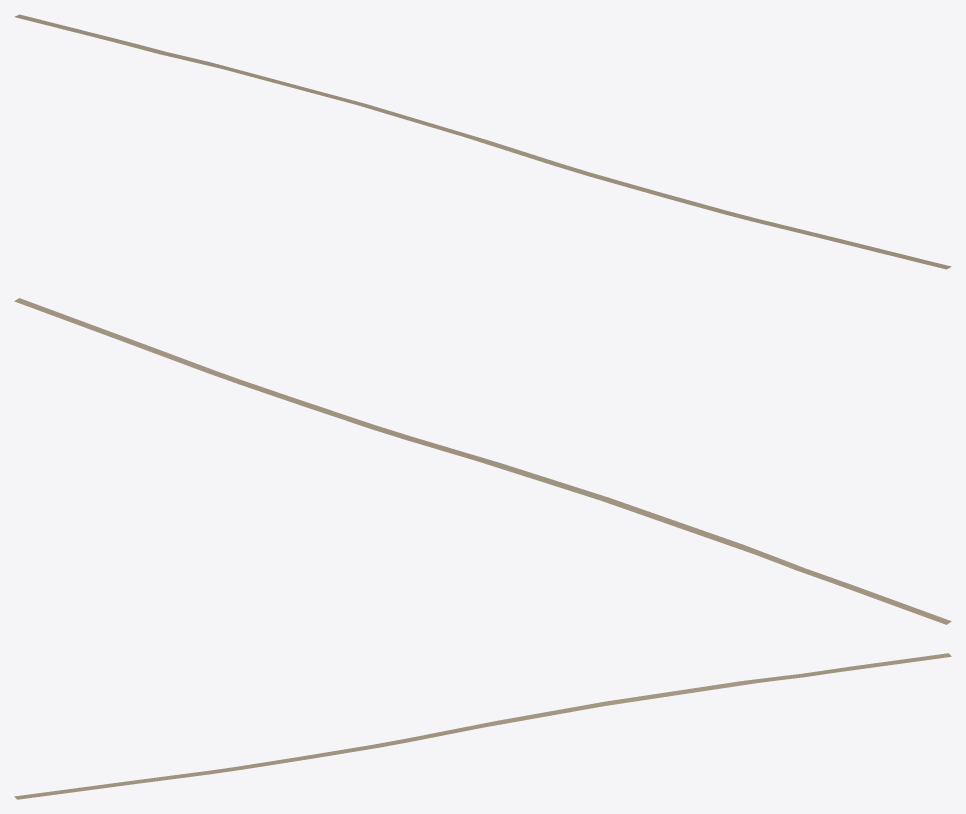
The model's file is farm_-24_-29_track.glb.
3 renders of one model, top to bottom at view 1: azimuth 30°, elevation 25°; view 2: azimuth 210°, elevation 25°; view 3: azimuth 270°, elevation 25°, orthographic. The views are drawn at different scales.
Visible parts, largest first — view 1: geometry_0; view 2: geometry_0; view 3: geometry_0.
Boxes of the visible parts, x1,y1,x2,y2 form: geometry_0: (14, 14, 951, 269); geometry_0: (14, 298, 951, 624); geometry_0: (14, 653, 951, 799).
Size of the model in its own units: 171 by 14.23 by 381.
